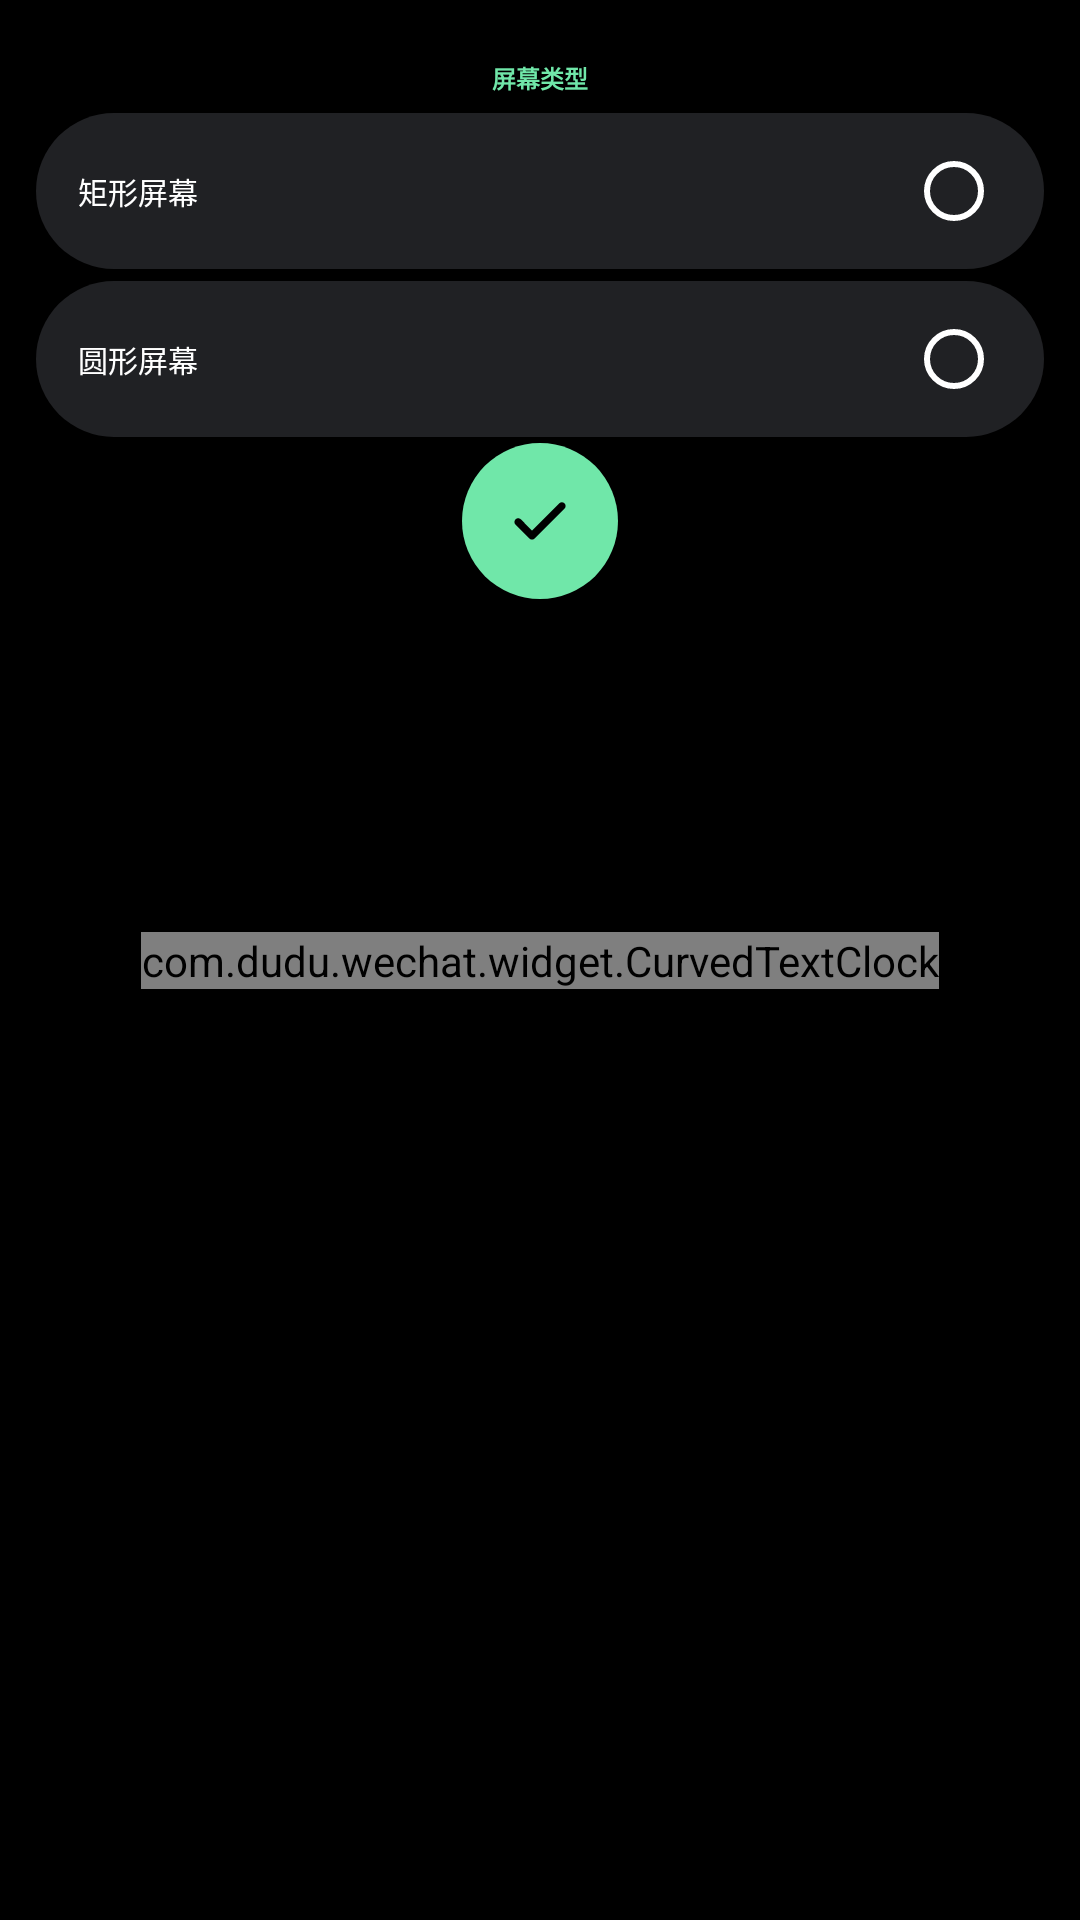

Screen size 1080px×1920px. Icon name, then its box in pixels as [x1,y1,x2,y2]:
done: [462,443,618,599]
